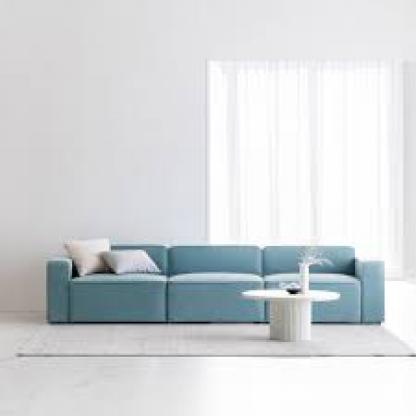sofa: (44, 240, 390, 324)
